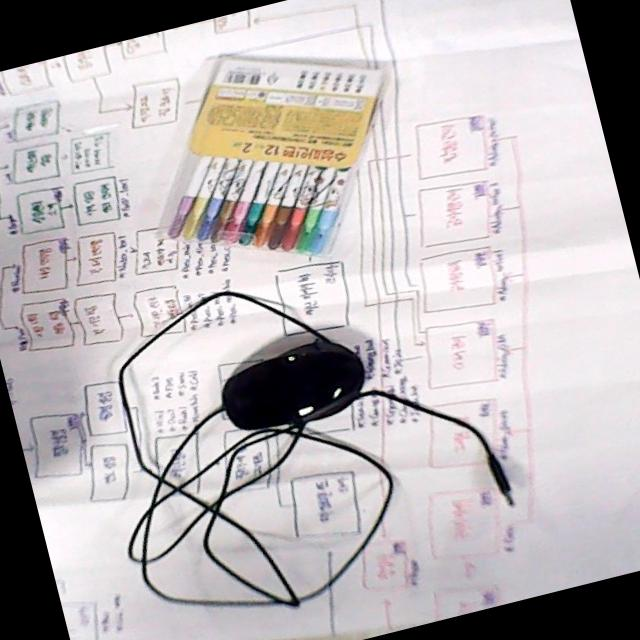mouse: (214, 334, 375, 434)
signpen: (156, 48, 400, 264)
